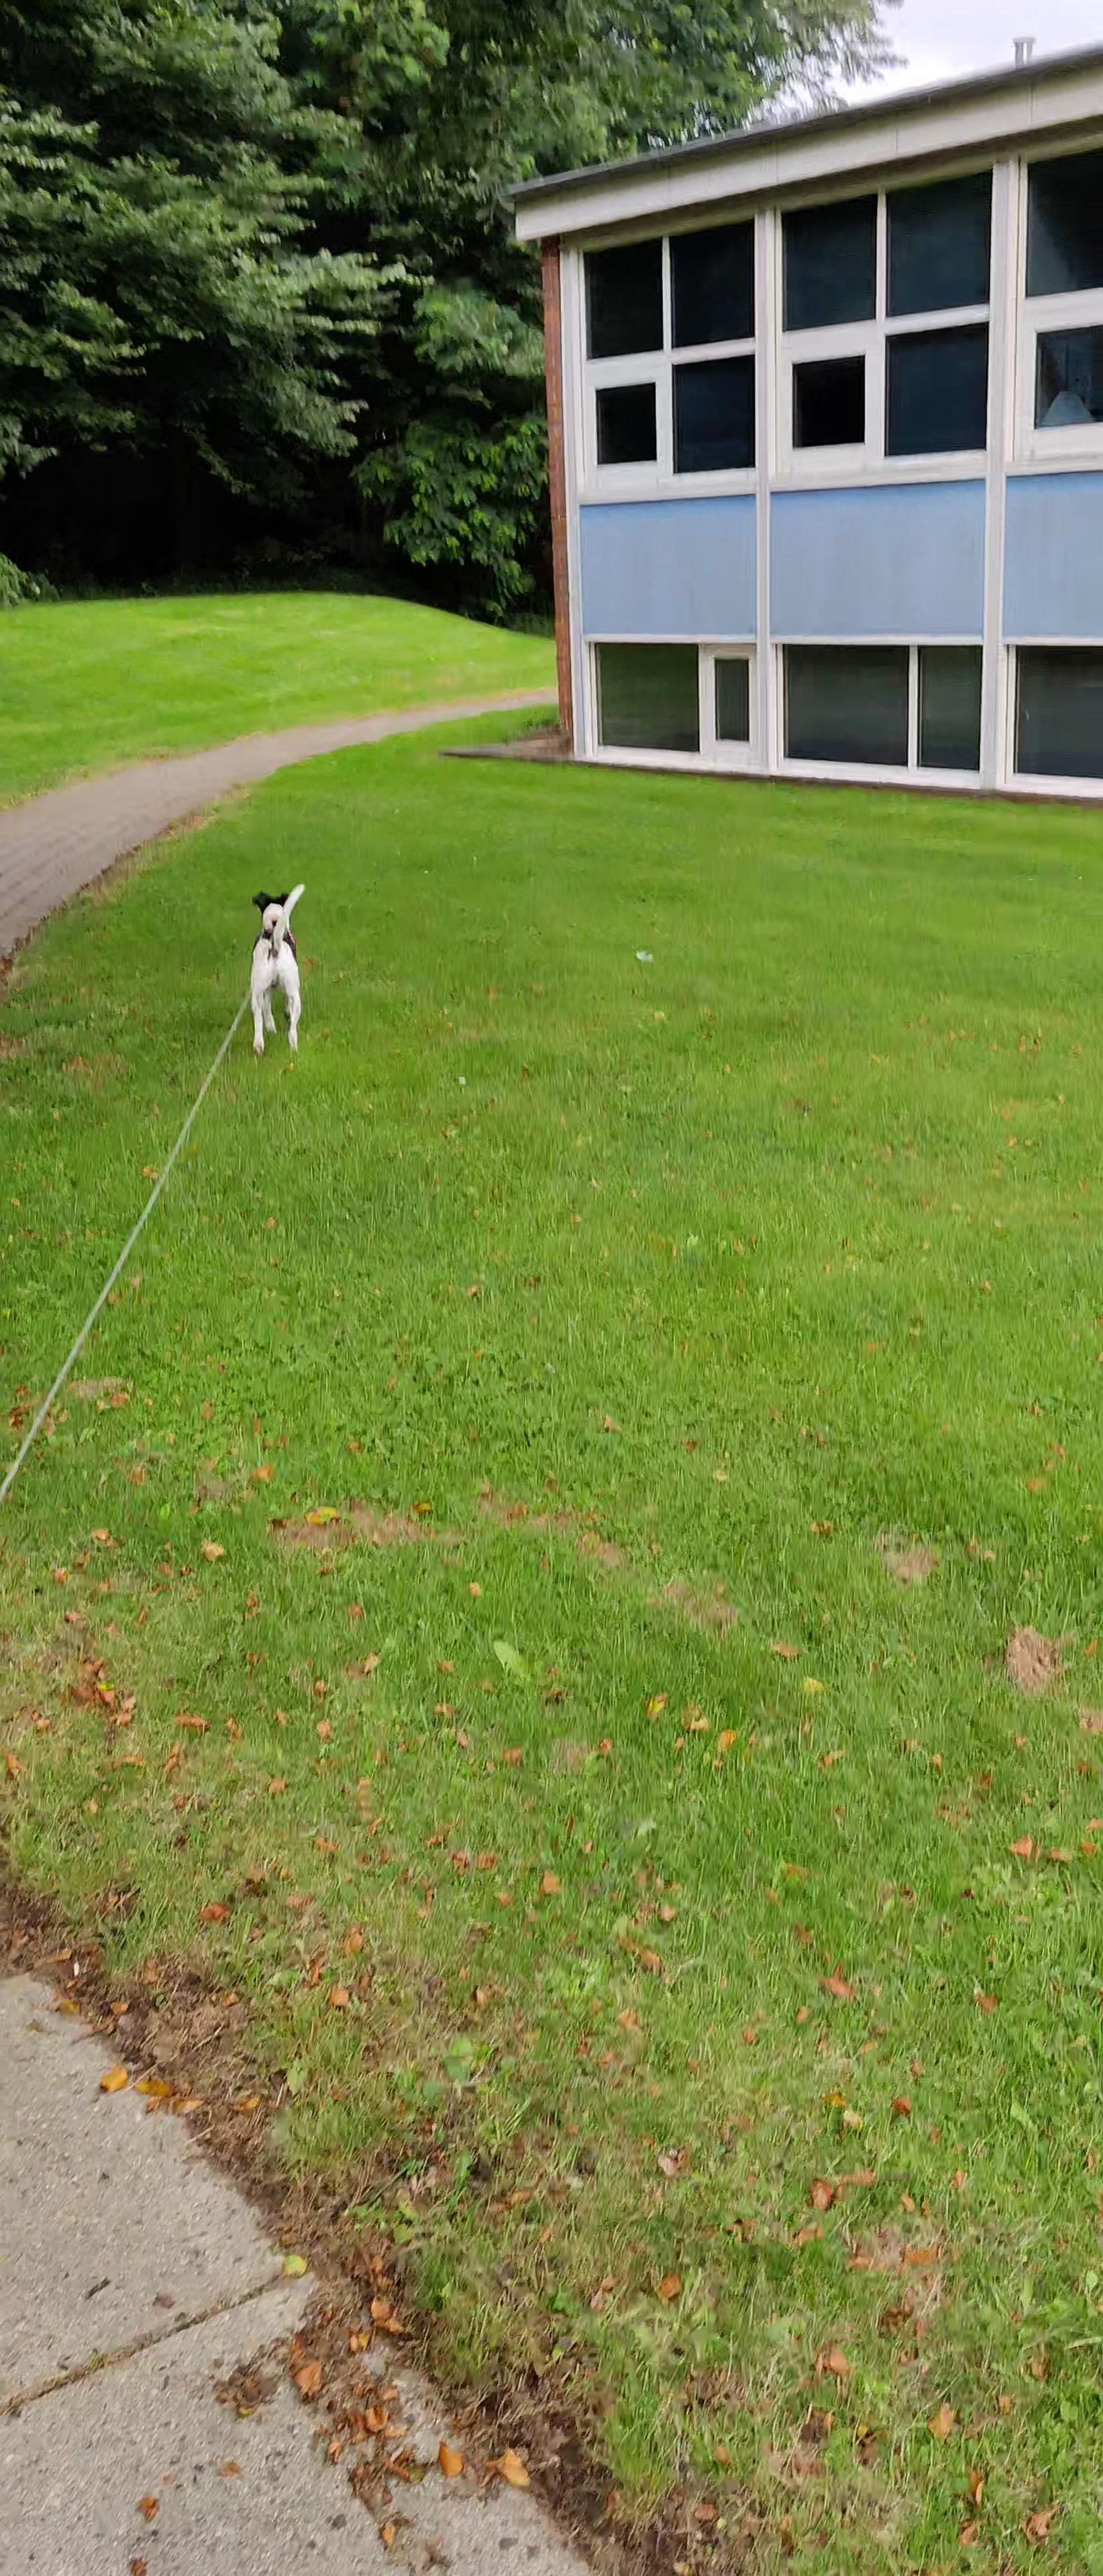Dog: (245, 881, 314, 1058)
